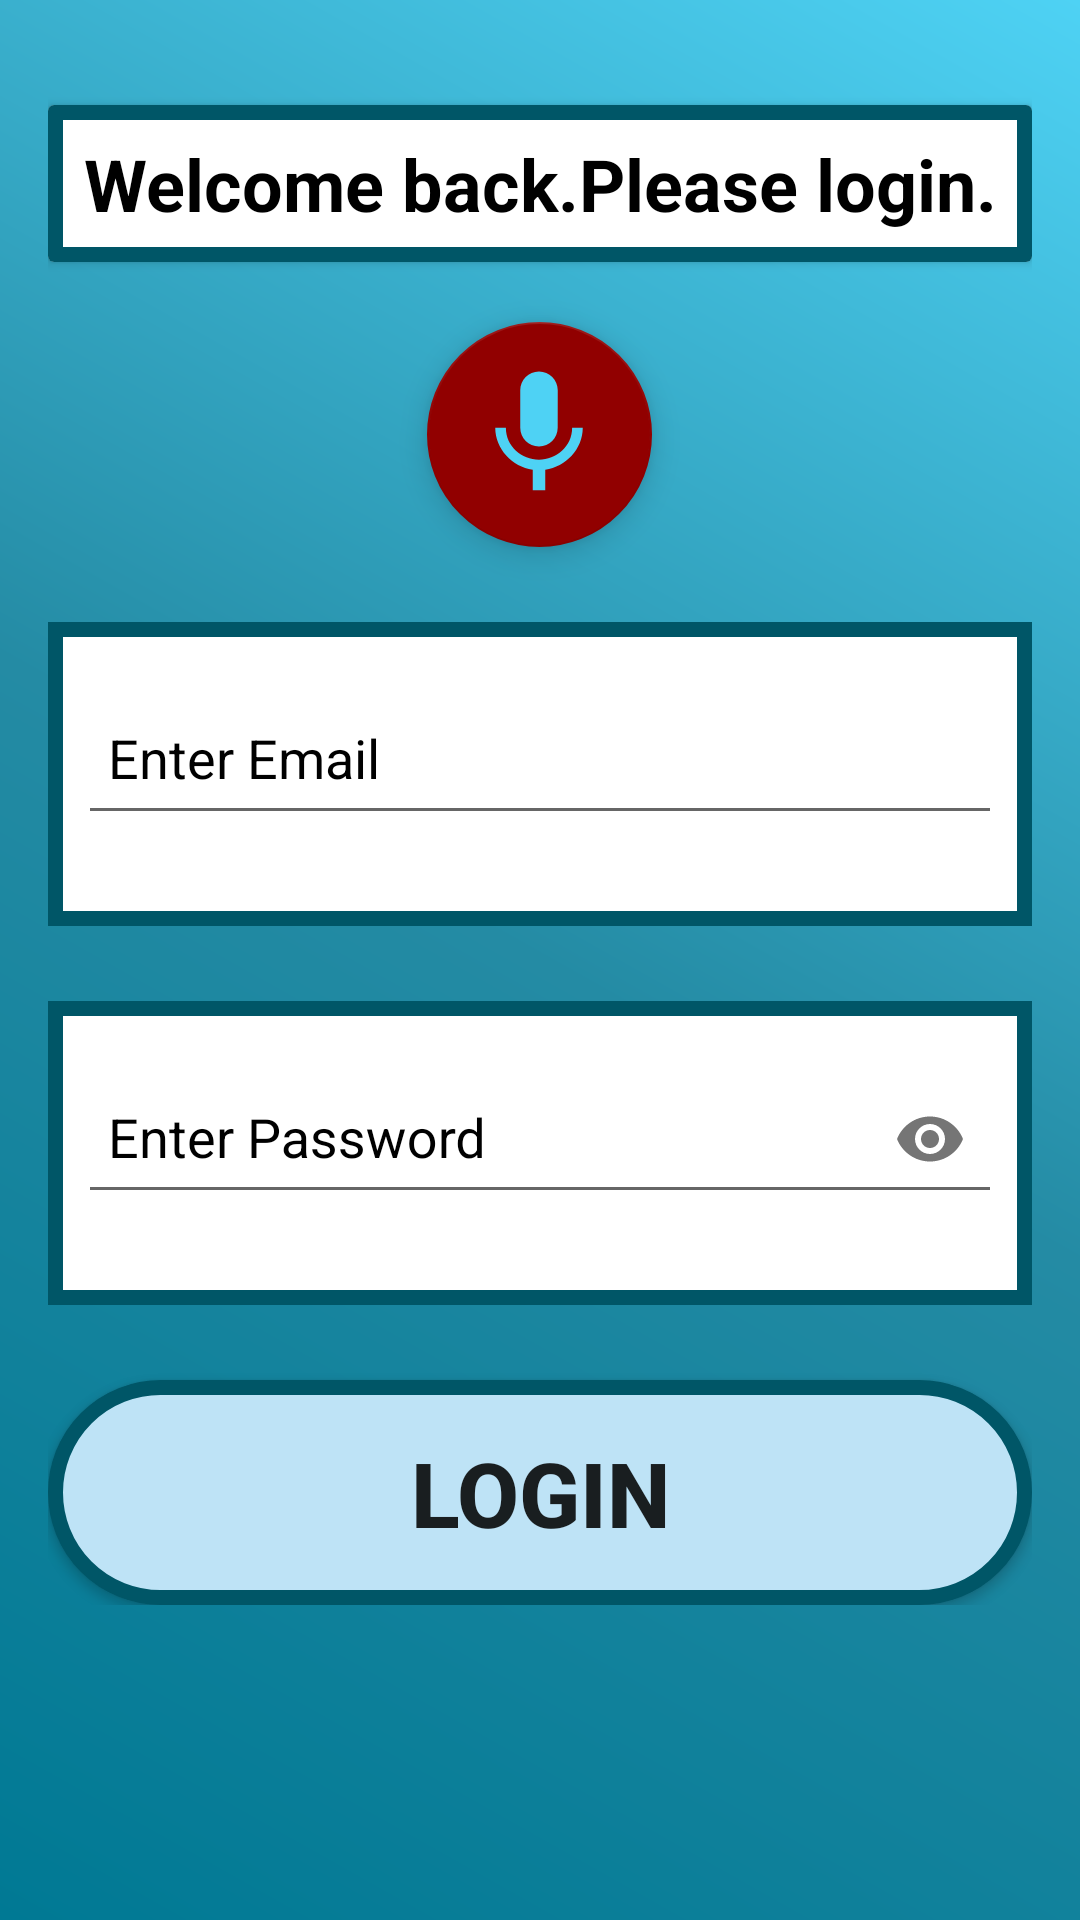

Icons on this 1080*1920 Android screen, each with its box as bbox=[x1, y1, x2, y2]:
Select microphone to Dictate your Email: bbox=[427, 322, 652, 547]
